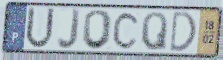C: (111, 10, 141, 51)
D: (168, 10, 198, 54)
J: (55, 6, 82, 52)
O: (80, 9, 115, 51)
Q: (140, 11, 169, 53)
U: (24, 5, 56, 51)
